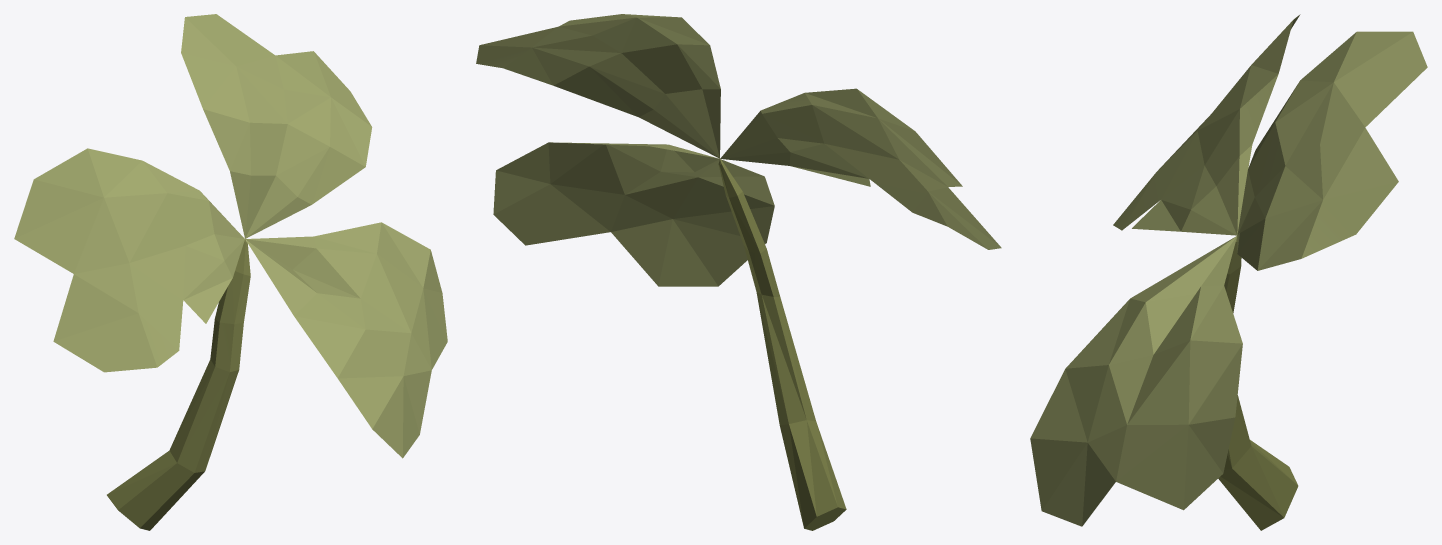
Rendered from herbClover.fbx.
3 renders of one model, left to right at view 1: azimuth 30°, elevation 25°; view 2: azimuth 150°, elevation 25°; view 3: azimuth 270°, elevation 25°, orthographic. The views are drawn at different scales.
Parts seen in each view (by area): view 1: herbClover; view 2: herbClover; view 3: herbClover.
Boxes of the visible parts, x1=… form: herbClover: x1=14, y1=14, x2=447, y2=530; herbClover: x1=476, y1=14, x2=1001, y2=530; herbClover: x1=1030, y1=14, x2=1427, y2=530.
Size of the model in its own units: 1.62 by 1.69 by 1.09.
